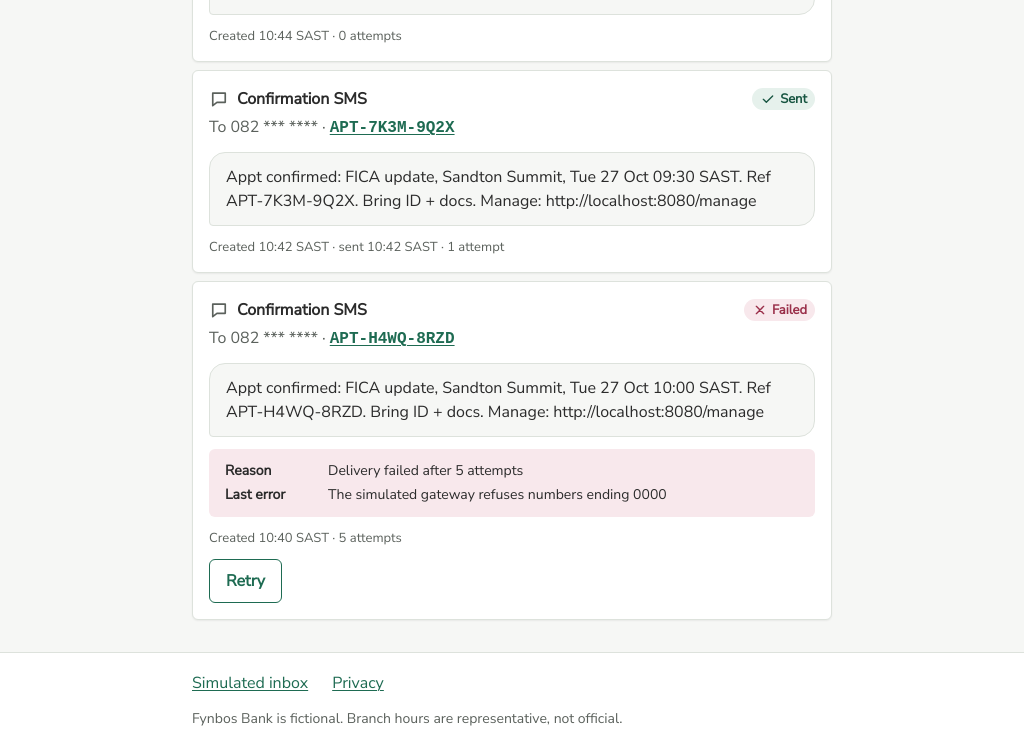
Scenario: InboxPage › explains when the message can no longer be retried
(page scrolled)
Click the button with aria-label "Retry the confirmation SMS" at (246, 581), box [209, 559, 282, 603]
(page scrolled)
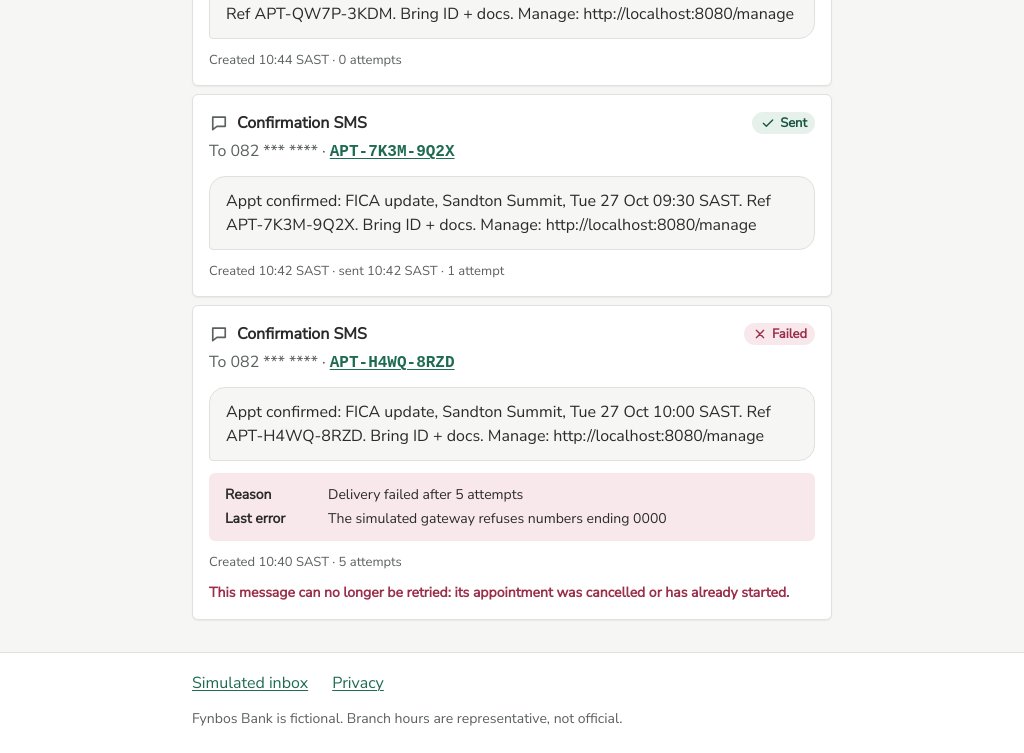
Expected: the list item named "Retry the confirmation SMS" shows "Failed", [772, 325, 807, 343]
Result: the message shows "This message can no longer be retried: its appointment was cancelled or has already started." at [209, 583, 789, 602]
Result: the button "Retry" is gone
